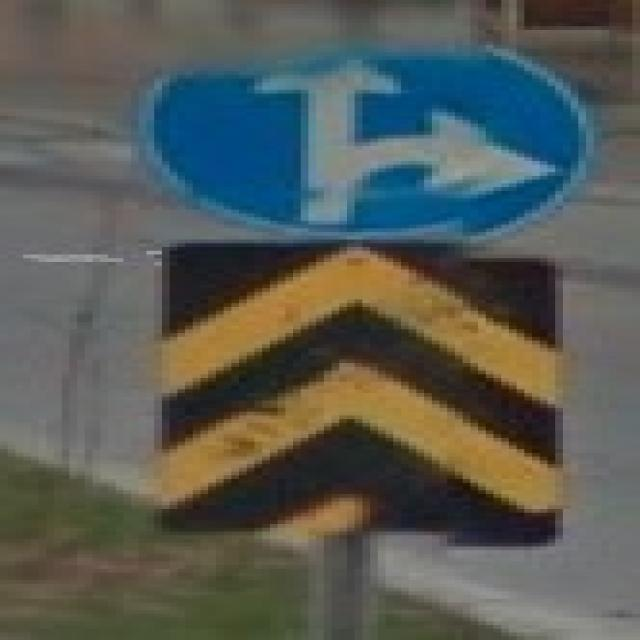Straight or Right: (140, 33, 579, 242)
